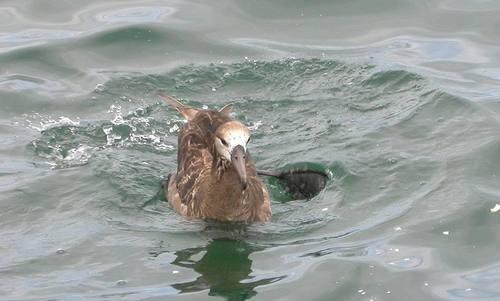001.Black_footed_Albatross: (158, 92, 330, 232)
